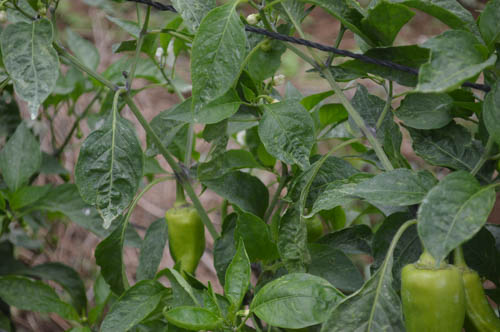ChiliPepper: (401, 264, 464, 331), (167, 206, 207, 284), (456, 265, 495, 329)
